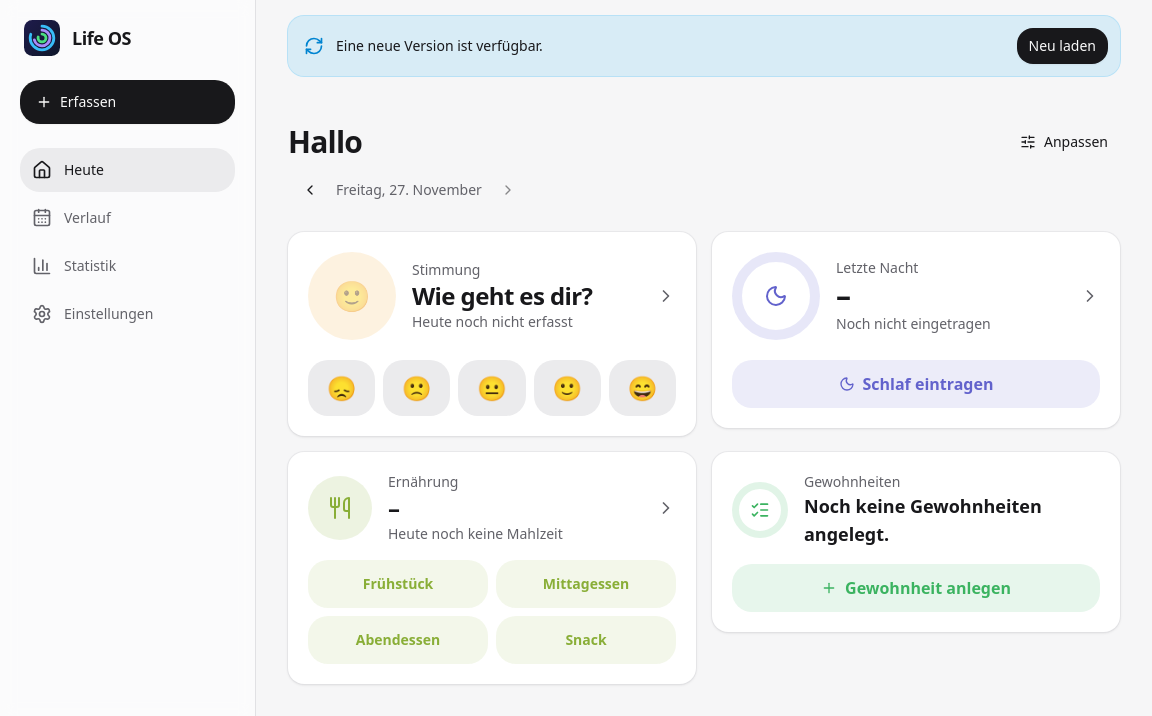
dashboard customization › hides and reorders widgets
Later steps or results of the test are not shown.
Expected: the button with aria-label "Ernährungs-Details öffnen" is shown, top-left (300, 464), bottom-right (684, 552)
Click the button "Anpassen" at (1064, 142), box top-left (1008, 124), bottom-right (1120, 160)
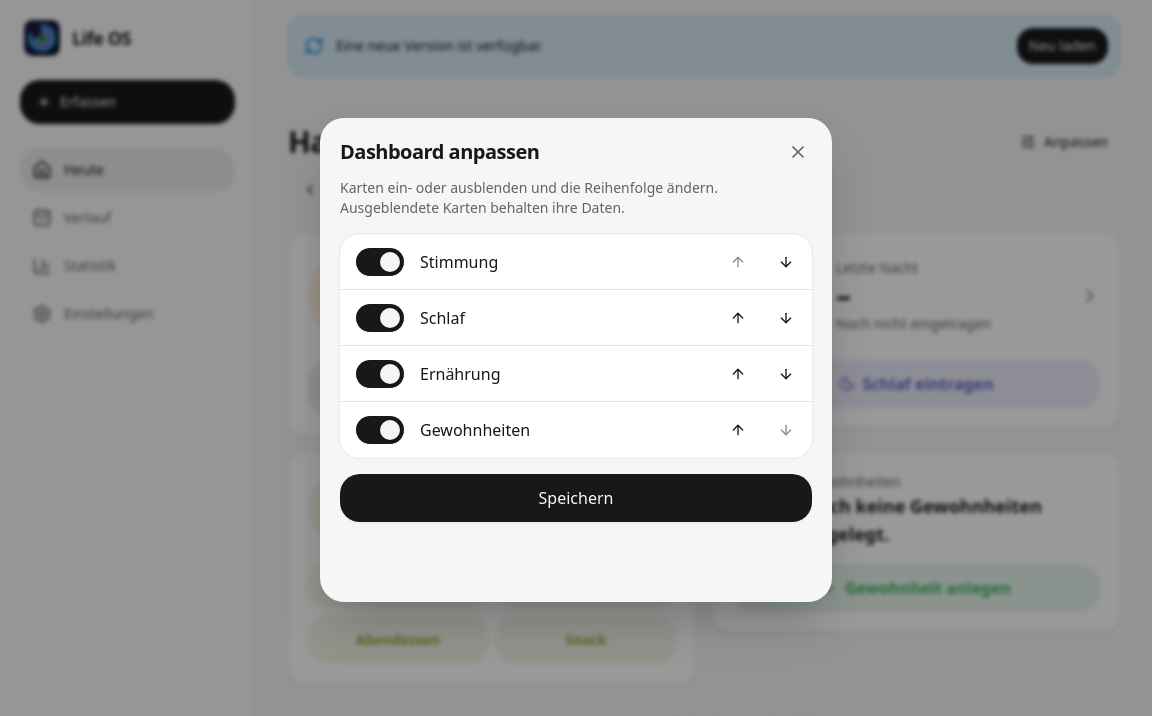
Now the text "Gewohnheiten" is shown, box top-left (420, 419), bottom-right (530, 441)
